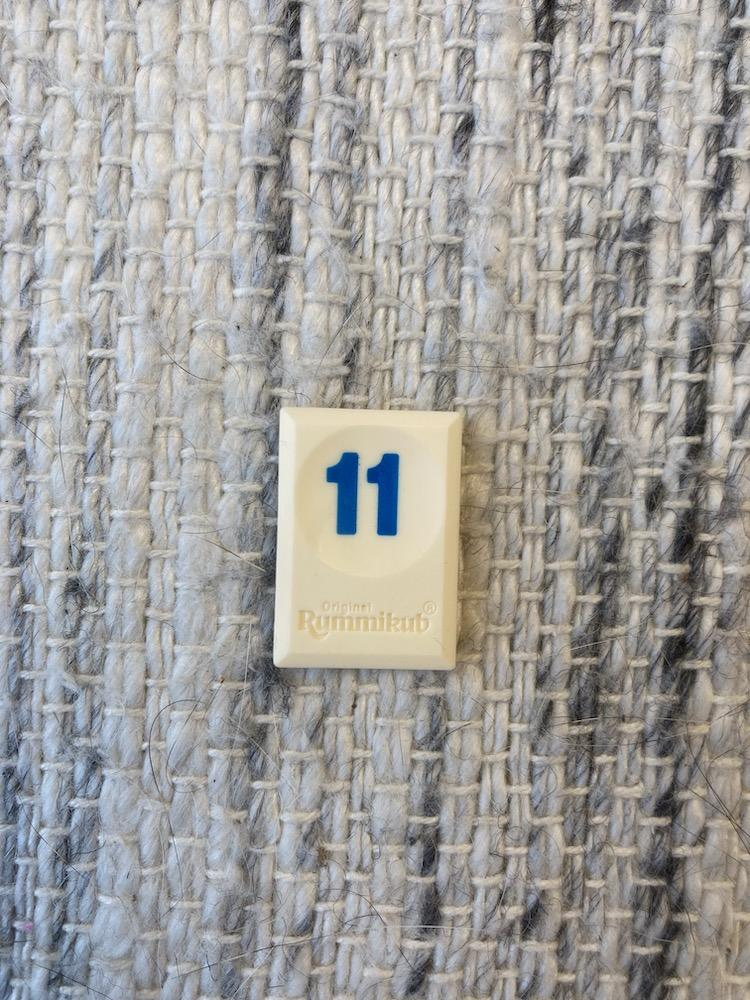blue_11: (273, 408, 461, 670)
